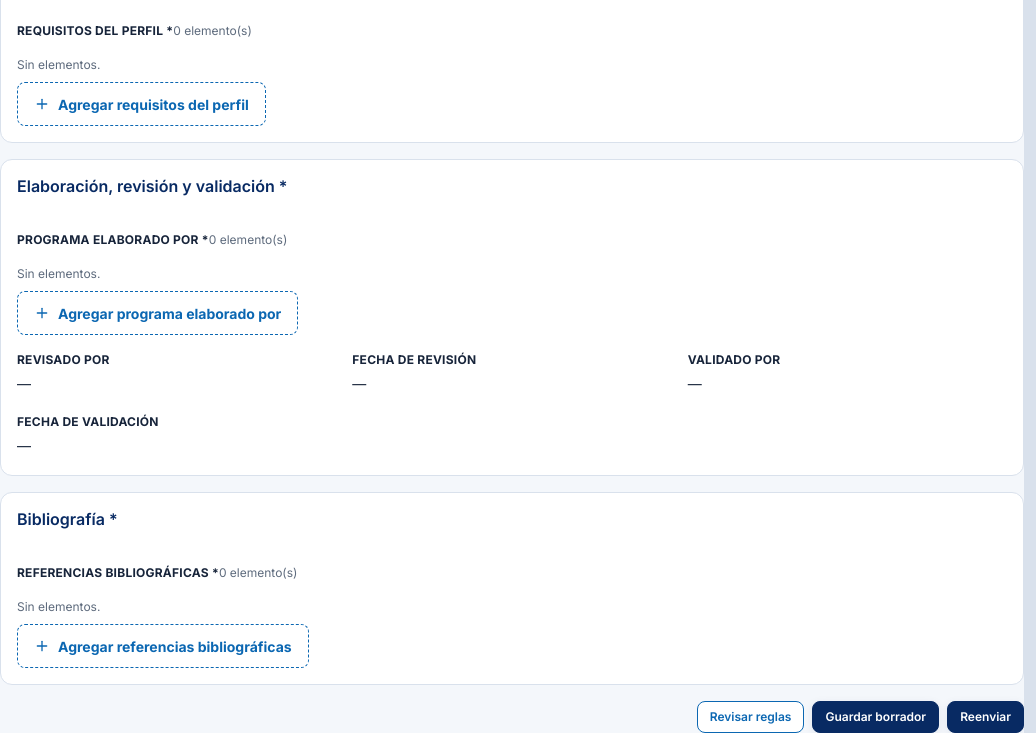
reenvía correctamente un programa en estado Requiere ajustes
The width and height of the screenshot is (1036, 733).
(page scrolled)
Click the button "Reenviar" at (986, 717), box [947,701,1024,732]
(page scrolled)
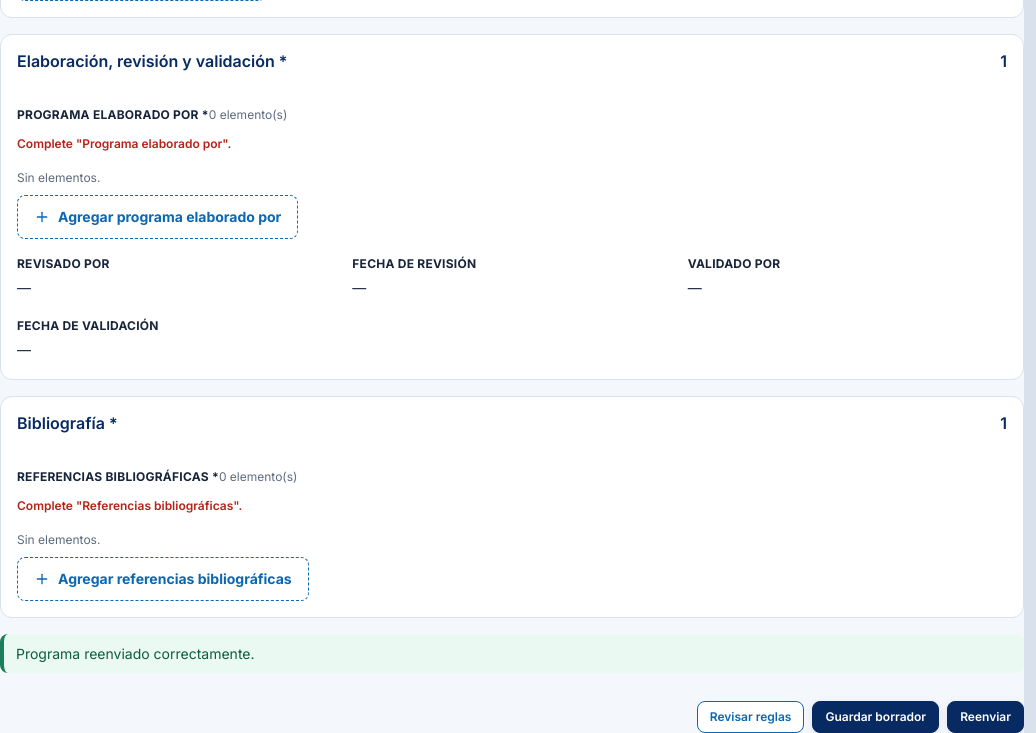
Expected: the text "Programa reenviado correctamente." is shown, [0,634,1024,673]
